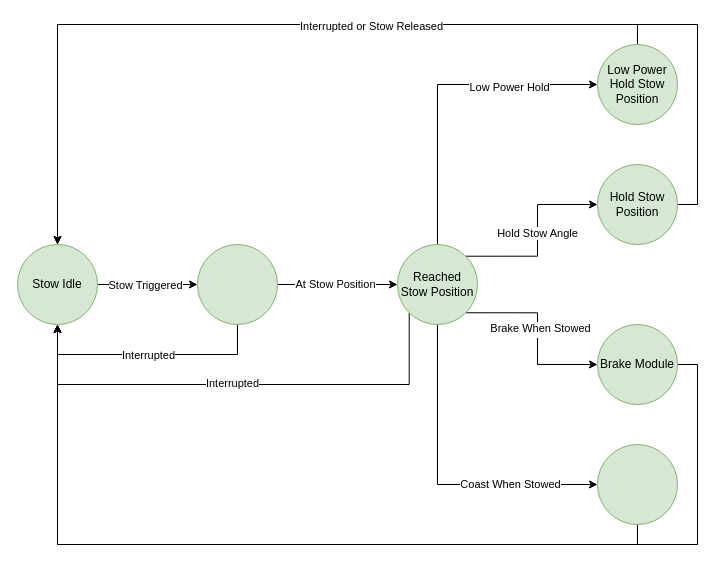
Some shapes in this 723 by 570 pixel diagram are drawn without their labels. The centre of each missing label's shape, as x and y in pixels:
Coast Module: (637,484)
Moving to Stow Position: (237,284)
